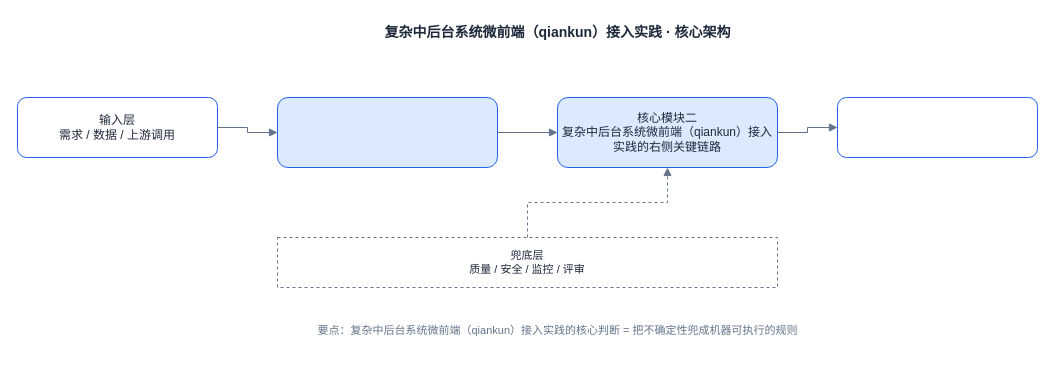
Some shapes in this 1055 by 369 pixel diagram are drawn without their labels. Here are the shapes that lost their labels. From the top down, the centre of each, then its label:
At pixel 387 132: "核心模块一 复杂中后台系统微前端（qiankun）接入实践的左侧关键链路".
At pixel 937 127: "输出 / 结果 产物 / 上线 / 反馈".
